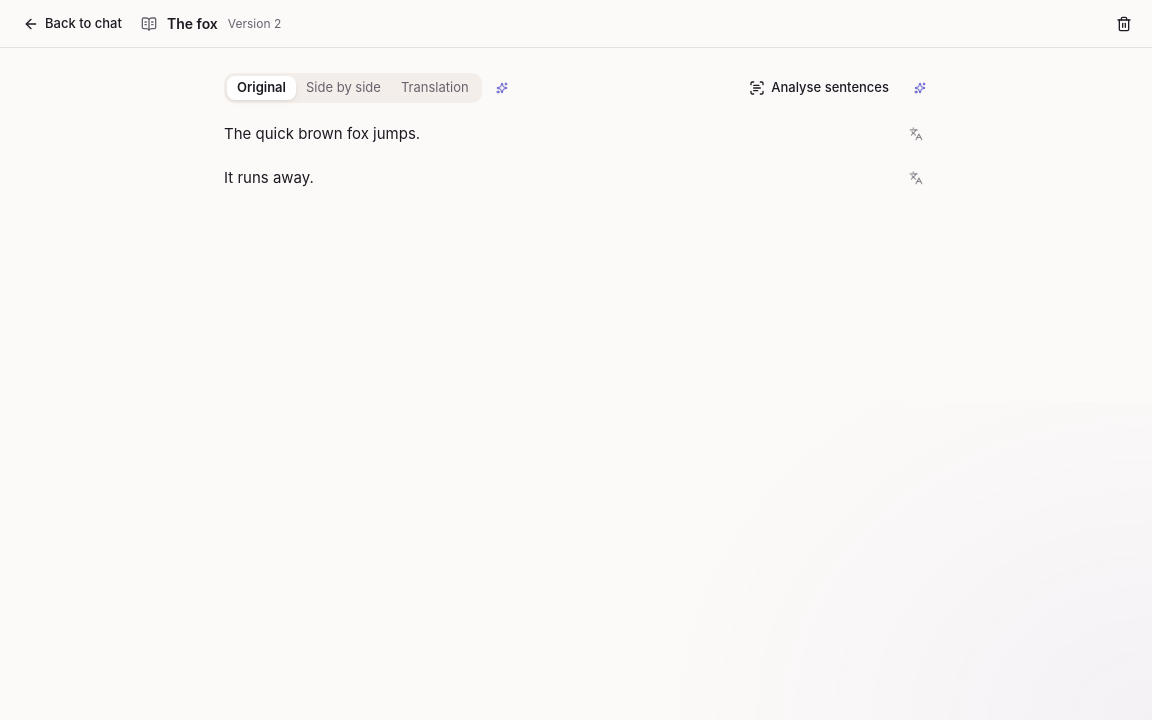
Scenario: ChatApp workspace (ADR 0043) › covers the conversation on medium screens, with a way back
What coordinates should you click on to do the following:
click the button "Back to chat"
I would click on:
 (72, 24)
Its box is [12,8,133,40].
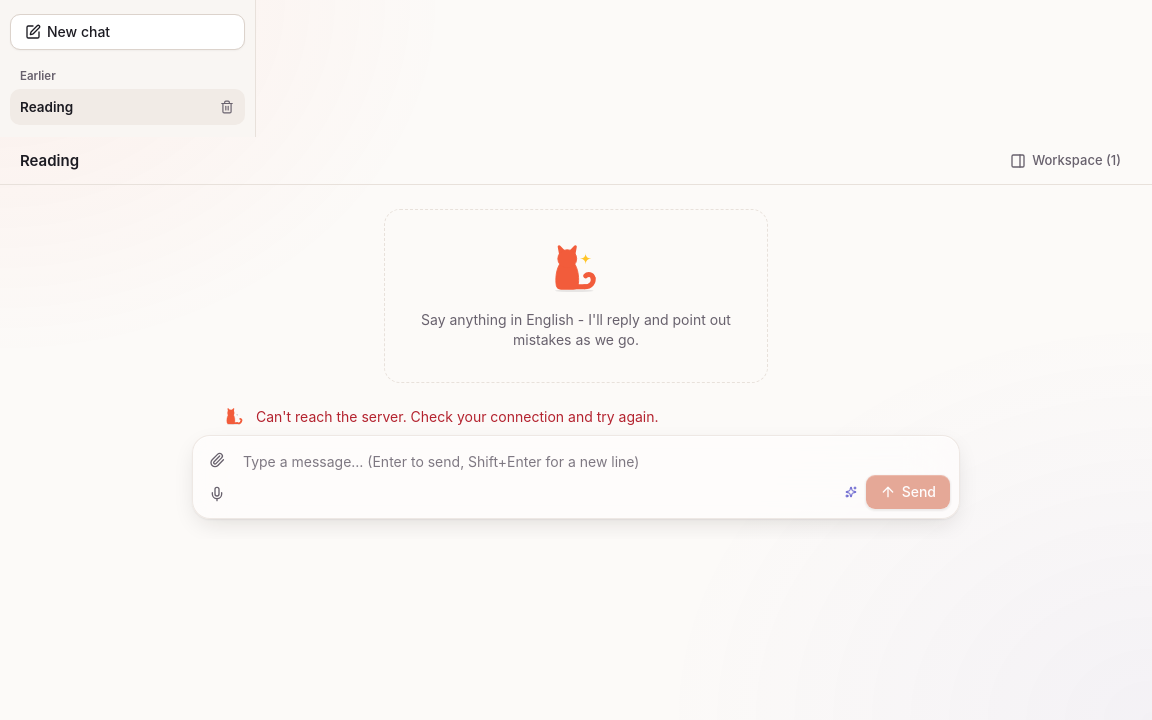
Expected: the element with test id "workspace" is gone
